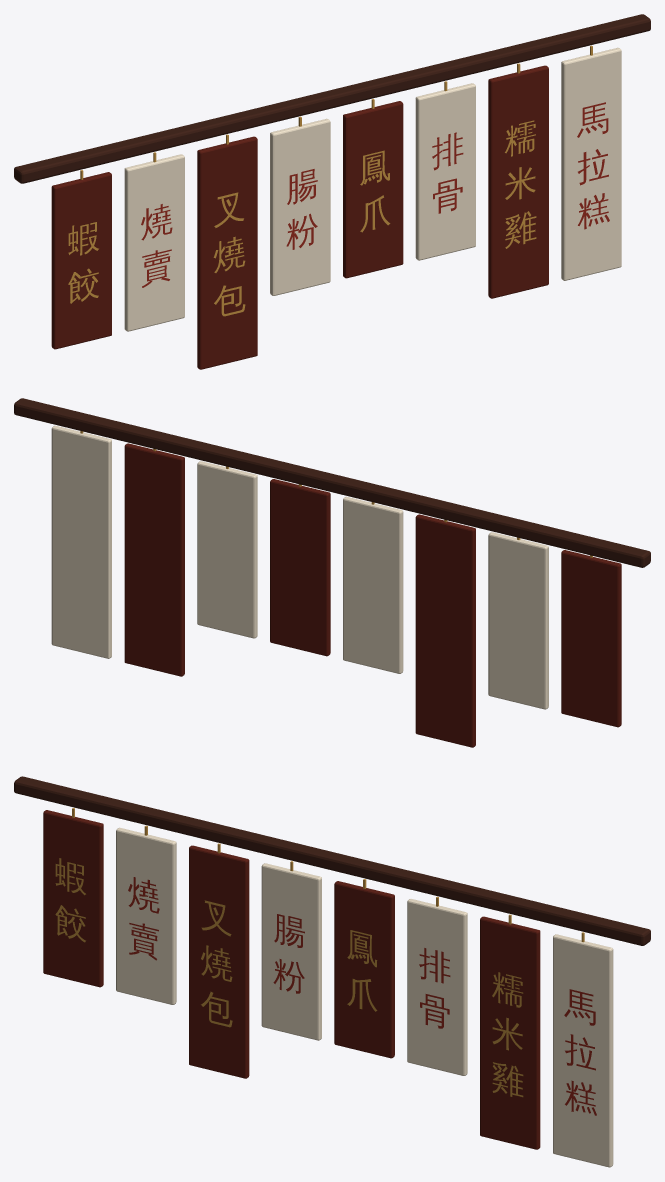
Rendered from menu_boards.glb.
3 renders of one model, top to bottom at view 1: azimuth 30°, elevation 25°; view 2: azimuth 150°, elevation 25°; view 3: azimuth 330°, elevation 25°, orthographic.
Parts seen in each view (by area): view 1: menu_boards; view 2: menu_boards; view 3: menu_boards.
Boxes of the visible parts, x1=… form: menu_boards: x1=14, y1=14, x2=650, y2=369; menu_boards: x1=14, y1=398, x2=650, y2=747; menu_boards: x1=14, y1=776, x2=650, y2=1167.
Bounding box in the file's own units: 2.6 × 0.945 × 0.076.
